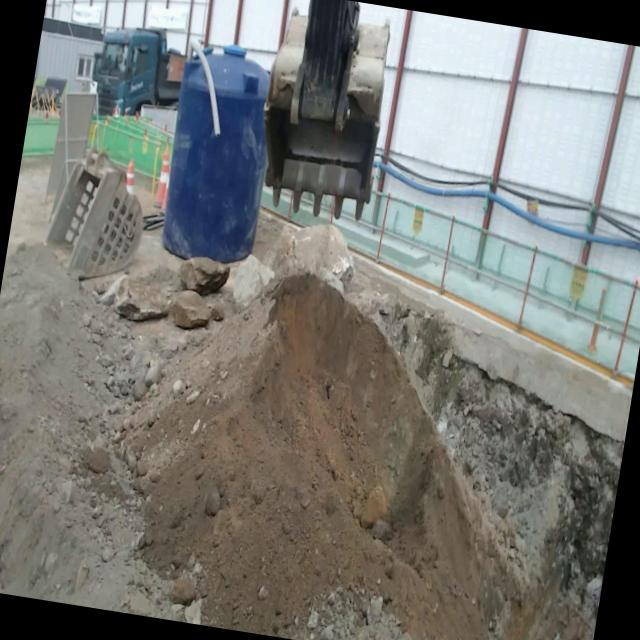red-sand: (121, 276, 517, 640)
stone: (267, 224, 355, 294), (116, 280, 172, 321), (233, 254, 275, 305), (179, 257, 230, 296), (170, 290, 211, 329)
white-sand: (0, 247, 179, 621)
